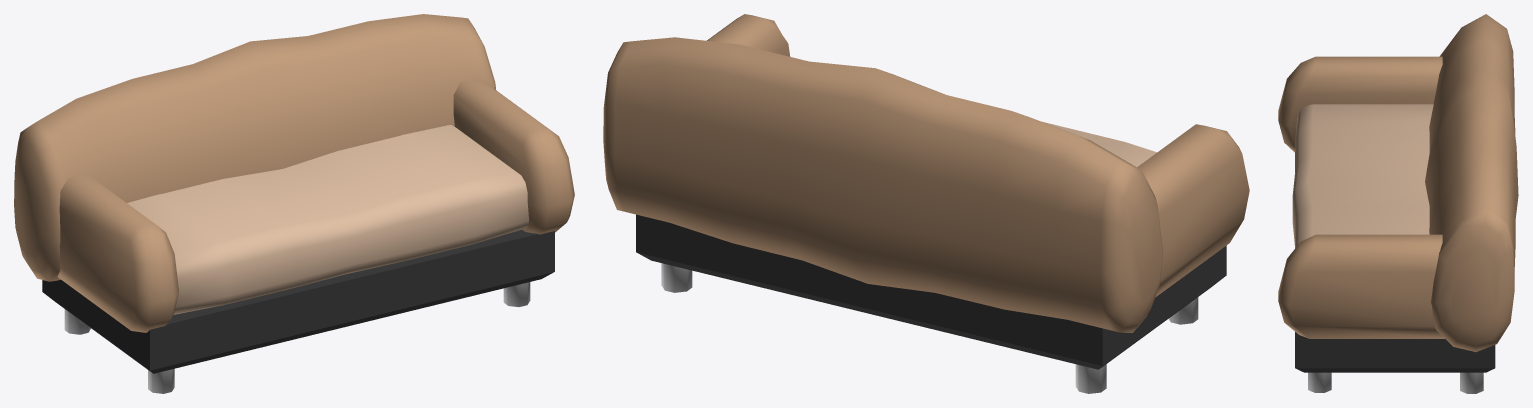
File: sofa.glb
3 views of the same model, side by side, from view 1: azimuth 30°, elevation 25°; view 2: azimuth 150°, elevation 25°; view 3: azimuth 270°, elevation 25° (orthographic). The views are drawn at different scales.
Parts seen in each view (by area): view 1: Sofa 1; view 2: Sofa 1; view 3: Sofa 1.
Boxes of the visible parts, x1,y1,x2,y2 form: Sofa 1: (14, 14, 574, 393); Sofa 1: (603, 14, 1249, 393); Sofa 1: (1278, 14, 1518, 393).
Size of the model in its own units: 1.85 by 0.9184 by 0.8987.
1 material, 1 textured.
